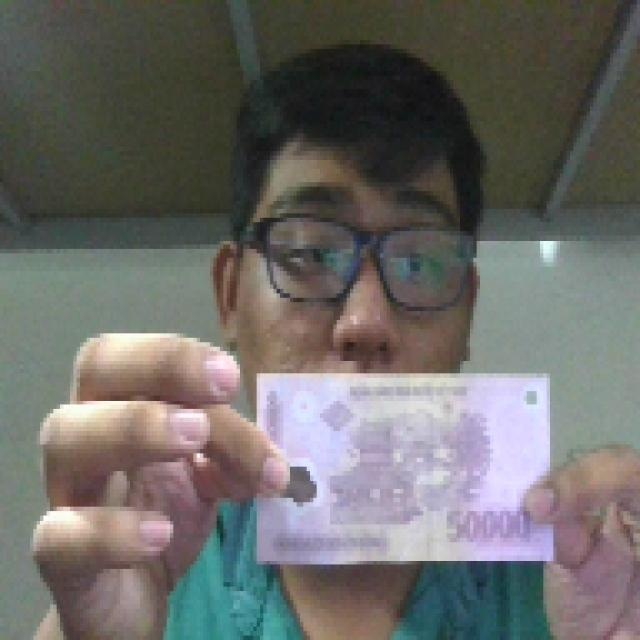50 000 VND: (250, 366, 560, 570)
